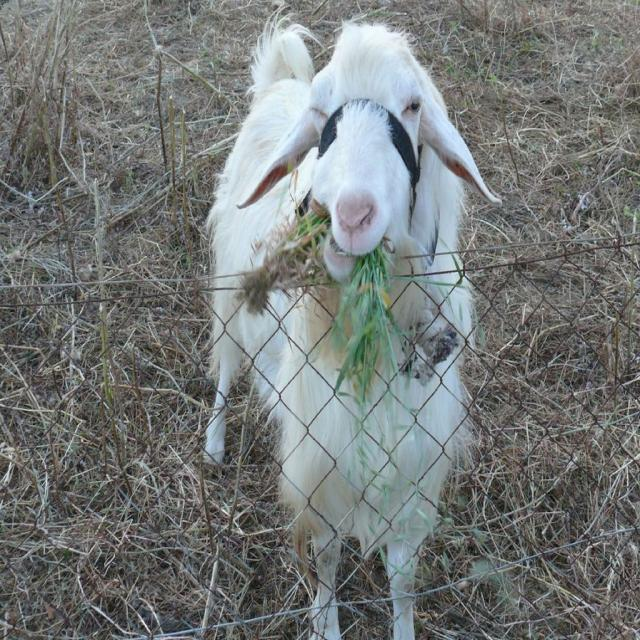Goat: (203, 14, 503, 639)
